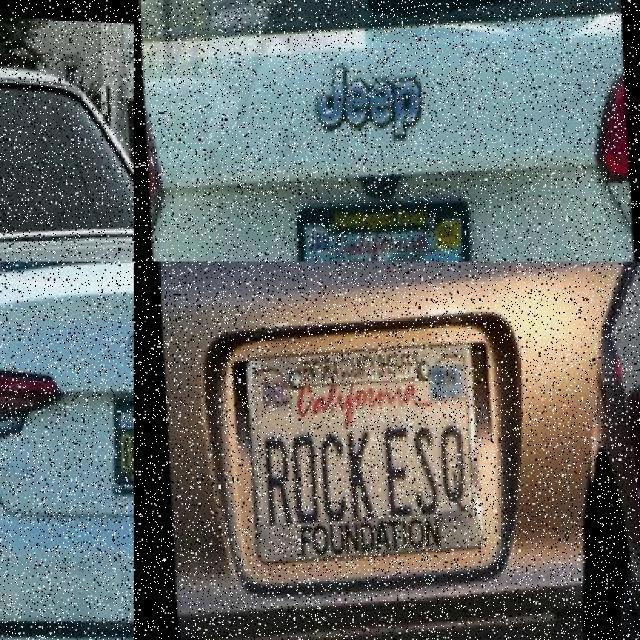LicensePlate: (242, 331, 491, 567), (289, 186, 488, 262), (109, 386, 134, 491)
